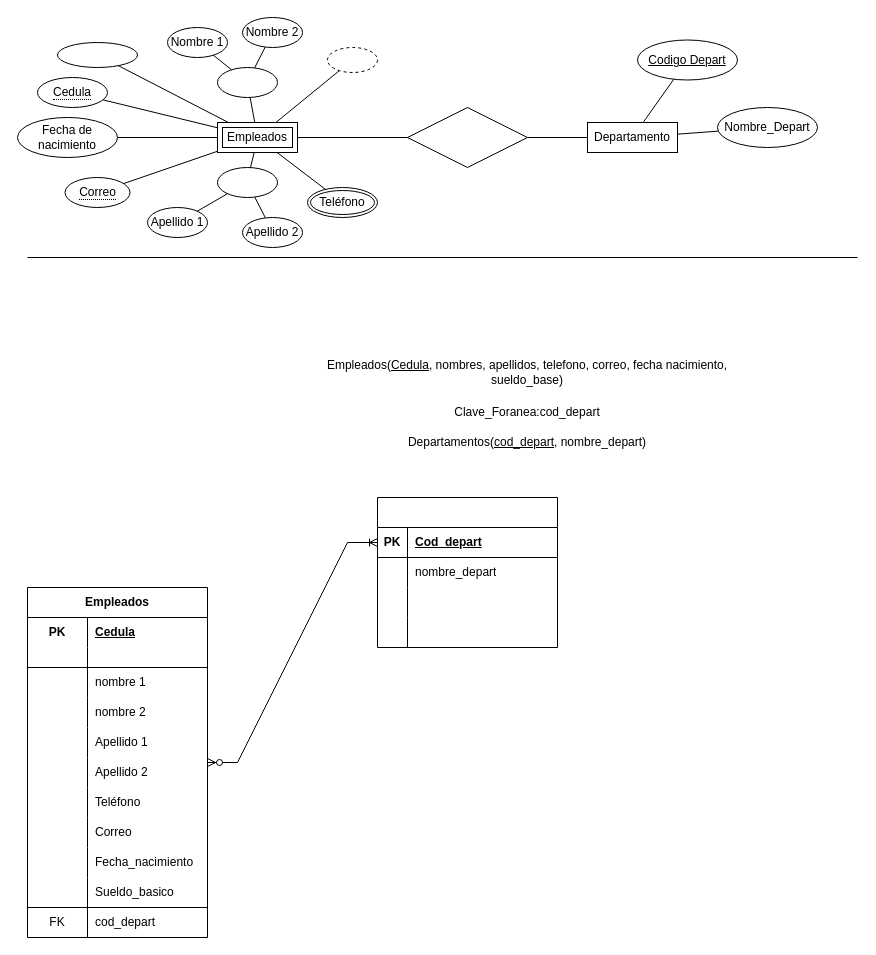
The diagram is 876 pixels wide and 955 high, and some of its shapes have lost their labels. Here are the shapes that lost their labels. From the top down, the box of each, then its label:
(56, 42, 138, 68): Sueldo Base
(326, 46, 378, 72): Edad
(216, 66, 278, 98): Nombres
(406, 106, 528, 168): Pertenece
(216, 166, 278, 198): Apellidos
(376, 496, 558, 648): Departamentos
